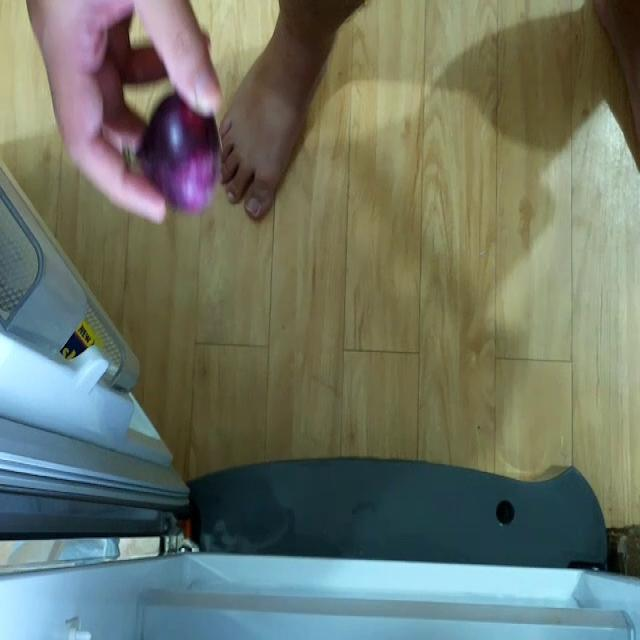onion: (134, 89, 228, 212)
